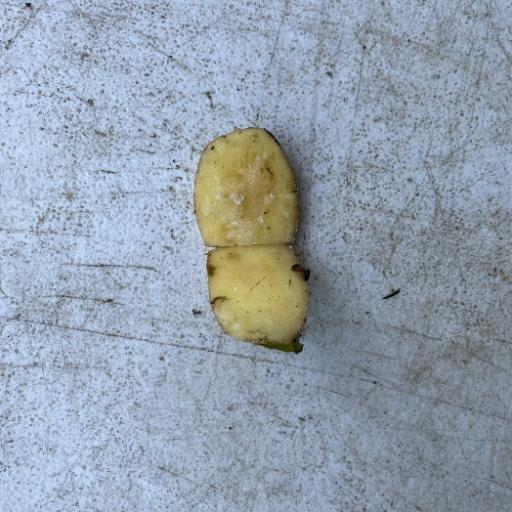Waste: (192, 125, 312, 353), (191, 125, 301, 248), (204, 243, 312, 352)
